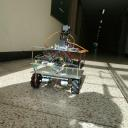cart: (30, 45, 86, 95)
